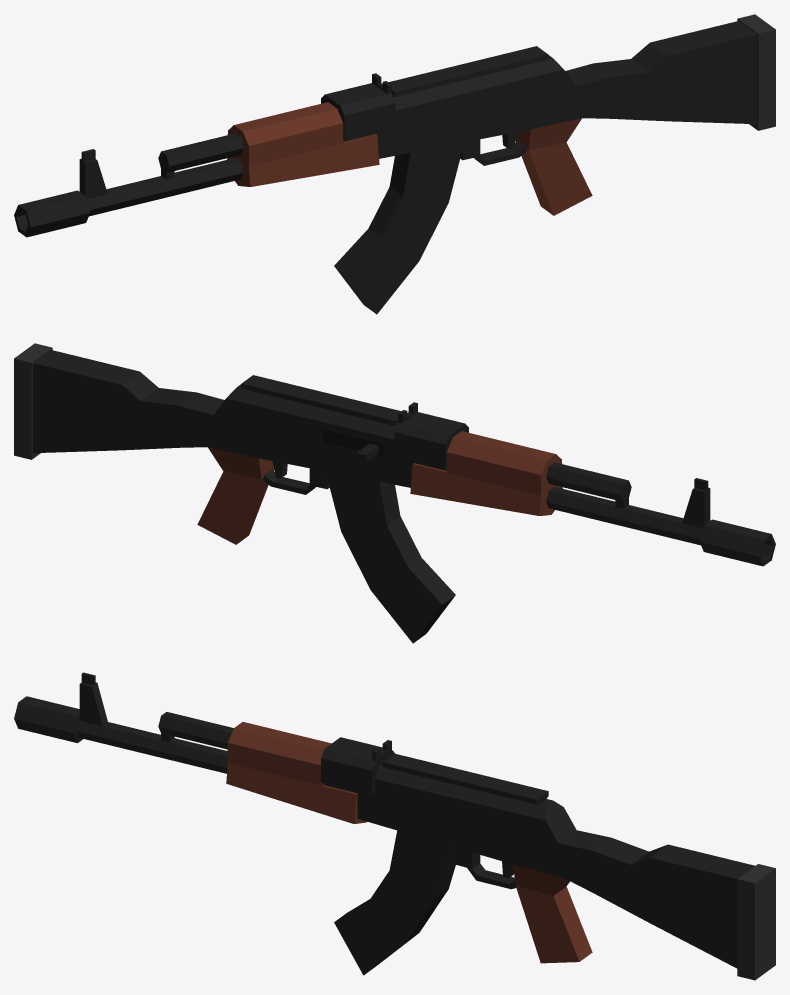
The picture shows the model from 3 angles, top to bottom: view 1: azimuth 30°, elevation 25°; view 2: azimuth 150°, elevation 25°; view 3: azimuth 330°, elevation 25°; orthographic projection.
Visible parts, largest first — view 1: Plane.001, Cube.007, Plane.002, Cylinder.002, sight_rear, rail.008, Plane.010, sight_front.002, Cube.008; view 2: Plane.001, Cube.007, Plane.002, Cylinder.002, sight_rear, rail.008, Plane.010, sight_front.002, Cube.008, holes.004; view 3: Plane.001, Cube.007, Plane.002, Cylinder.002, Plane.010, sight_rear, rail.008, sight_front.002, Cube.008.
Boxes of the visible parts, x1,y1,x2,y2 form: Plane.001: [343, 21, 756, 215]; Cube.007: [334, 142, 464, 314]; Plane.002: [227, 102, 379, 186]; Cylinder.002: [14, 133, 243, 237]; sight_rear: [321, 73, 395, 139]; rail.008: [388, 46, 548, 96]; Plane.010: [737, 14, 775, 130]; sight_front.002: [79, 149, 107, 199]; Cube.008: [460, 139, 526, 165]; Plane.001: [33, 350, 446, 544]; Cube.007: [325, 471, 455, 643]; Plane.002: [410, 431, 562, 515]; Cylinder.002: [546, 462, 775, 566]; sight_rear: [394, 402, 468, 468]; rail.008: [241, 375, 401, 425]; Plane.010: [14, 343, 52, 459]; sight_front.002: [682, 478, 710, 528]; Cube.008: [263, 468, 329, 494]; holes.004: [323, 429, 382, 456]; Plane.001: [323, 764, 755, 968]; Cube.007: [334, 830, 455, 975]; Plane.002: [226, 722, 366, 823]; Cylinder.002: [14, 696, 233, 773]; Plane.010: [737, 864, 775, 980]; sight_rear: [321, 737, 394, 794]; rail.008: [382, 753, 548, 804]; sight_front.002: [79, 672, 107, 725]; Cube.008: [454, 847, 516, 889].
Size of the model in its own units: 78.28 by 280 by 957.
